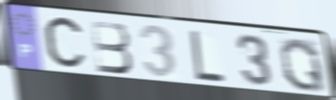3: (138, 24, 180, 81), (235, 33, 274, 89)
B: (88, 18, 135, 75)
C: (41, 14, 88, 73)
L: (188, 28, 227, 85)
Q: (278, 36, 328, 94)
